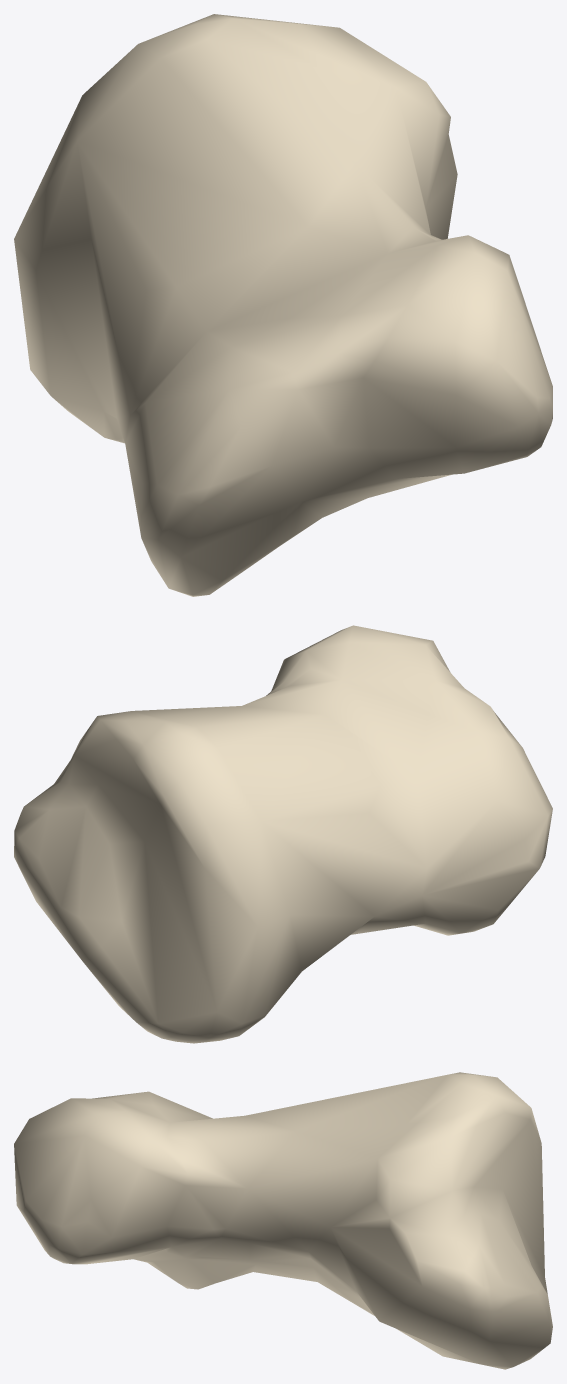
File: middle-phalanx-of-fourth-finger-of-foot-r.glb
The picture shows the model from 3 angles, top to bottom: view 1: azimuth 30°, elevation 25°; view 2: azimuth 150°, elevation 25°; view 3: azimuth 270°, elevation 25°; orthographic projection. The views are drawn at different scales.
Visible parts, largest first — view 1: Middle phalanx of fourth finger of foot.r; view 2: Middle phalanx of fourth finger of foot.r; view 3: Middle phalanx of fourth finger of foot.r.
Part boxes in pixels (x1=…): Middle phalanx of fourth finger of foot.r: x1=14, y1=14, x2=552, y2=596; Middle phalanx of fourth finger of foot.r: x1=14, y1=625, x2=552, y2=1043; Middle phalanx of fourth finger of foot.r: x1=14, y1=1072, x2=552, y2=1369.
Size of the model in its own units: 0.0111 by 0.00834 by 0.0141.
